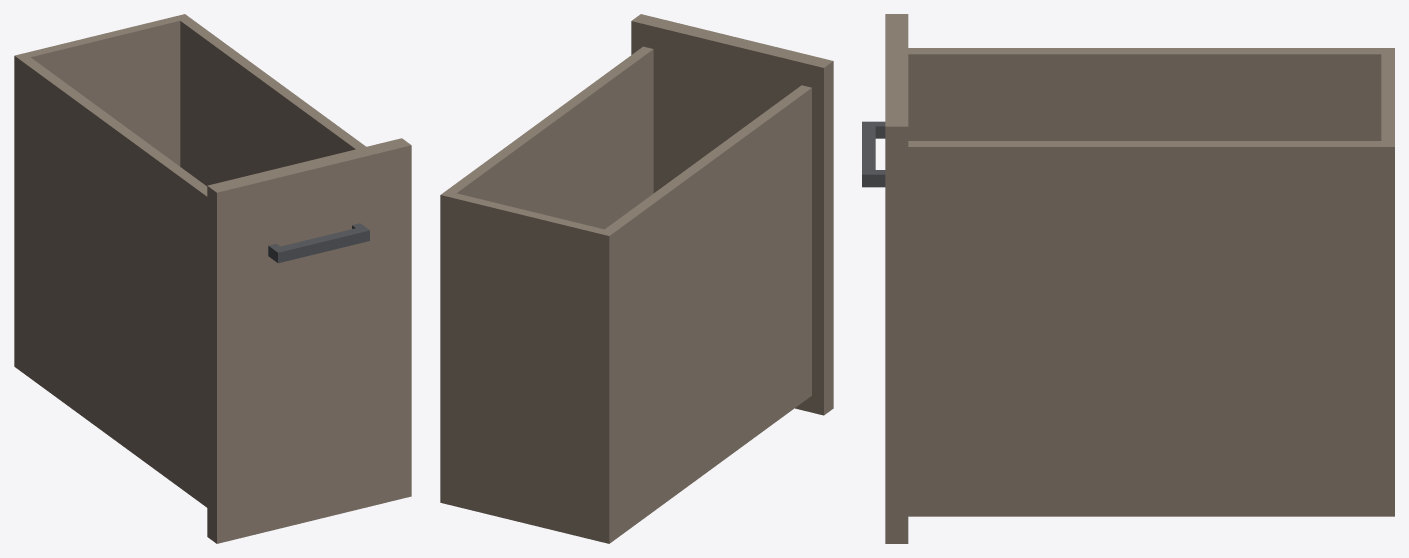
File: Door1_C5_08.fbx
3 views of the same model, side by side, from view 1: azimuth 30°, elevation 25°; view 2: azimuth 150°, elevation 25°; view 3: azimuth 270°, elevation 25° (orthographic). The views are drawn at different scales.
Parts seen in each view (by area): view 1: Door1_C5_08; view 2: Door1_C5_08; view 3: Door1_C5_08.
Boxes of the visible parts, bbox=[...] form: Door1_C5_08: bbox=[14, 14, 411, 543]; Door1_C5_08: bbox=[440, 14, 833, 543]; Door1_C5_08: bbox=[862, 14, 1394, 543].
Bounding box in the file's own units: 29 × 50 × 57.89.
